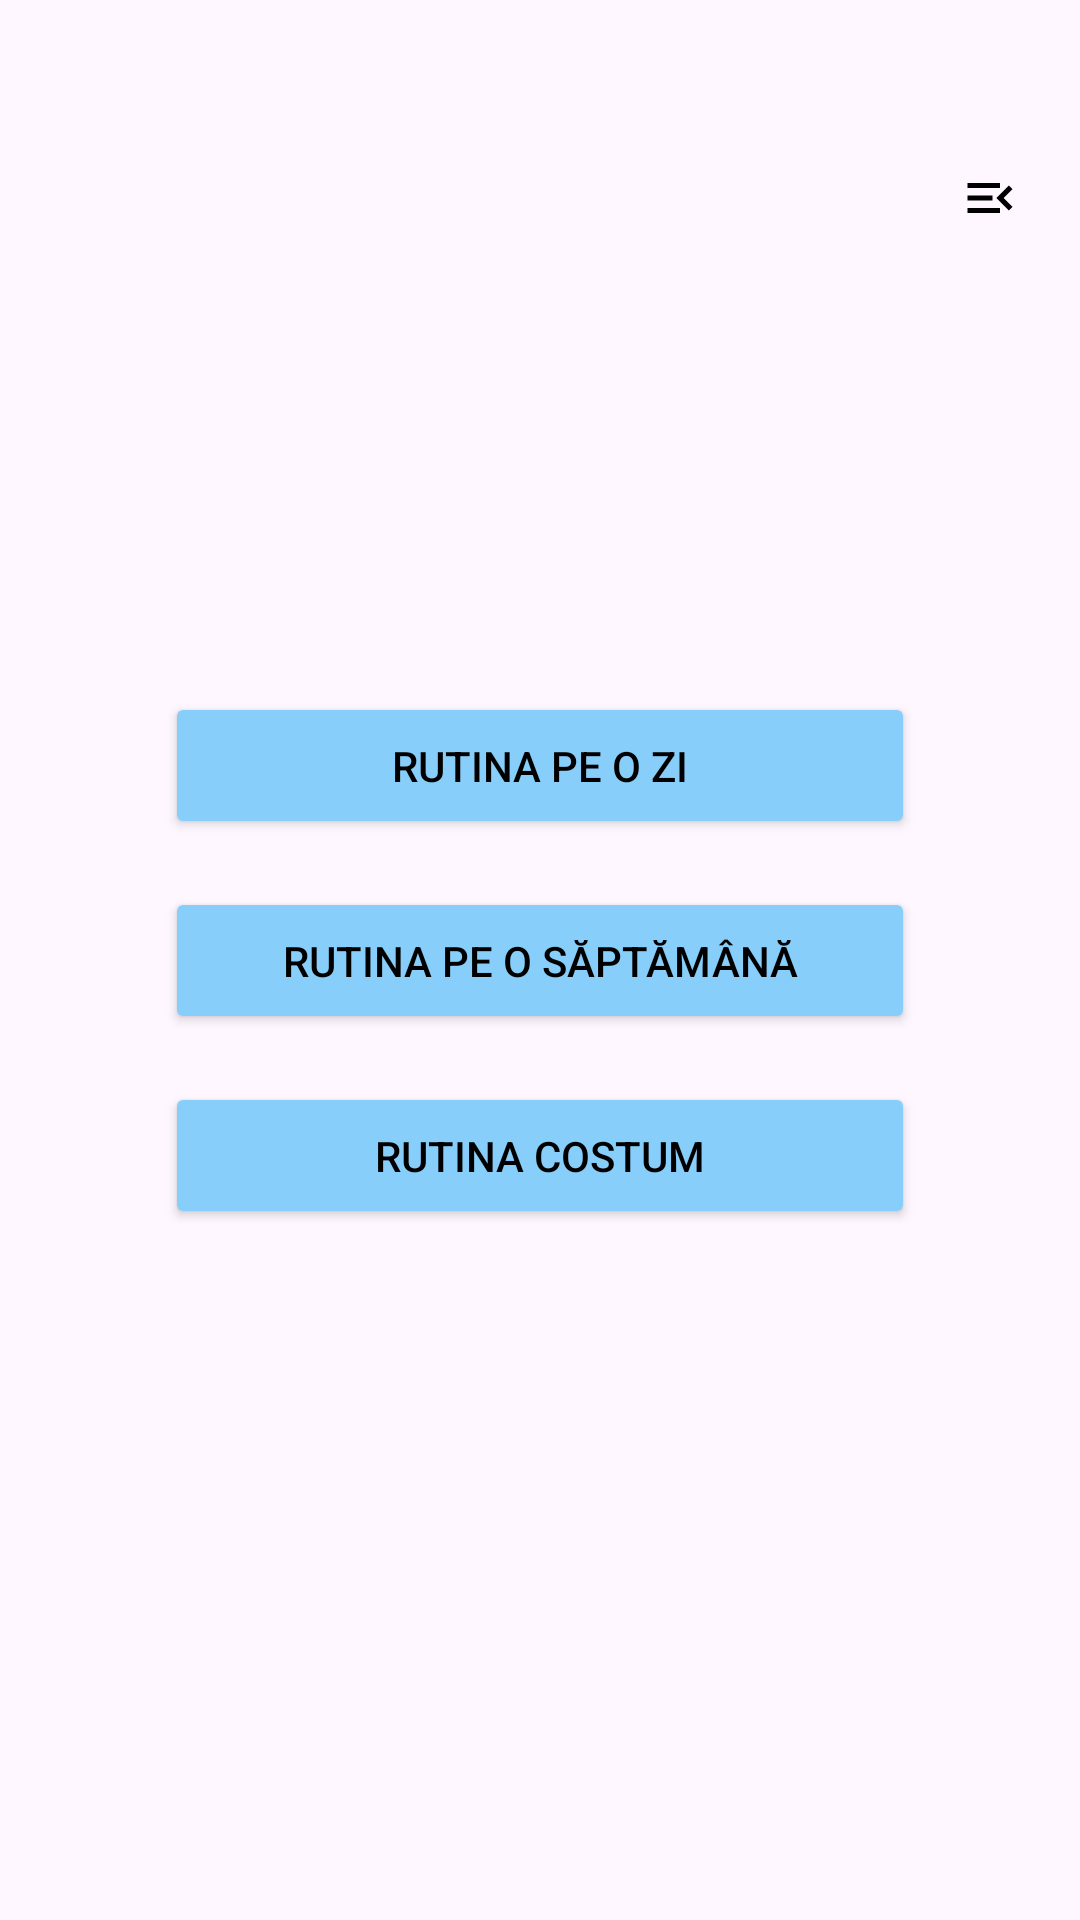

Screen size 1080 × 1920. Icon name, then its box in pixels as (x1, y1, x2, y2):
Meniu Optiuni: (967, 183, 1013, 213)
